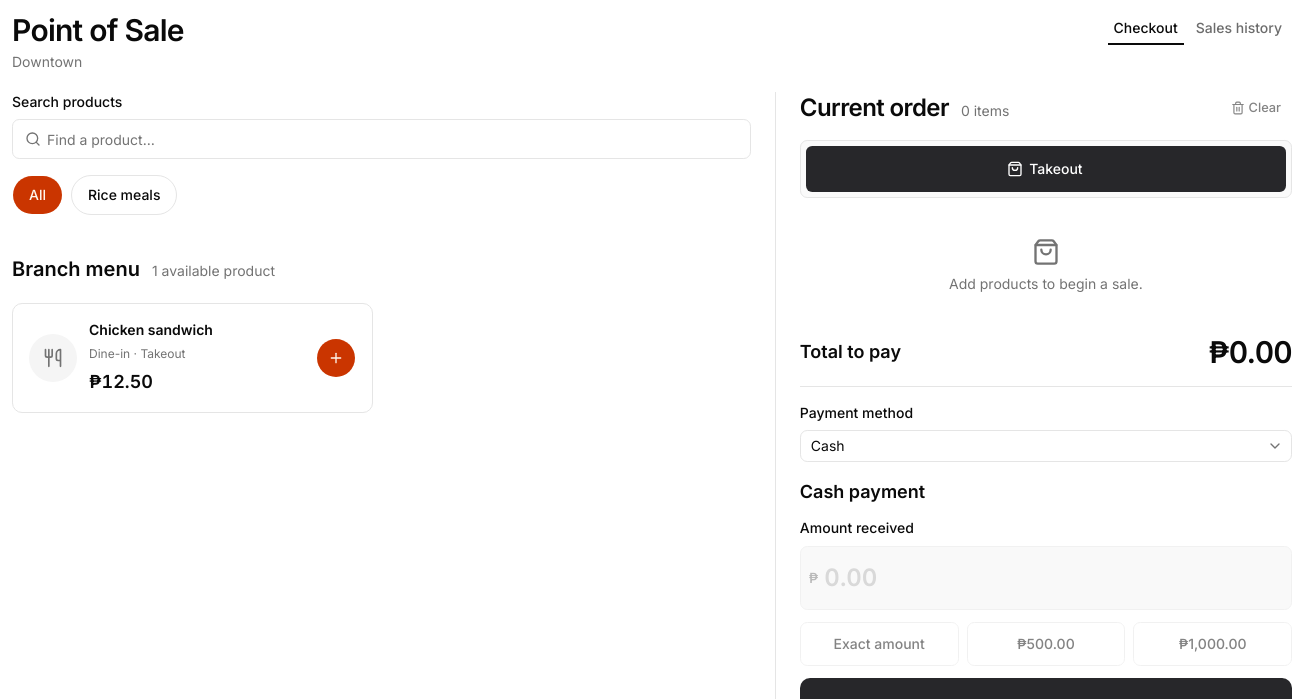
Test: POS management › clears branch-dependent cart state when the branch changes
Later steps or results of the test are not shown.
What coordinates should you click on to do the following:
click the button named "Add Chicken sandwich"
I would click on:
 (336, 358)
Its box is [316,338,356,378].
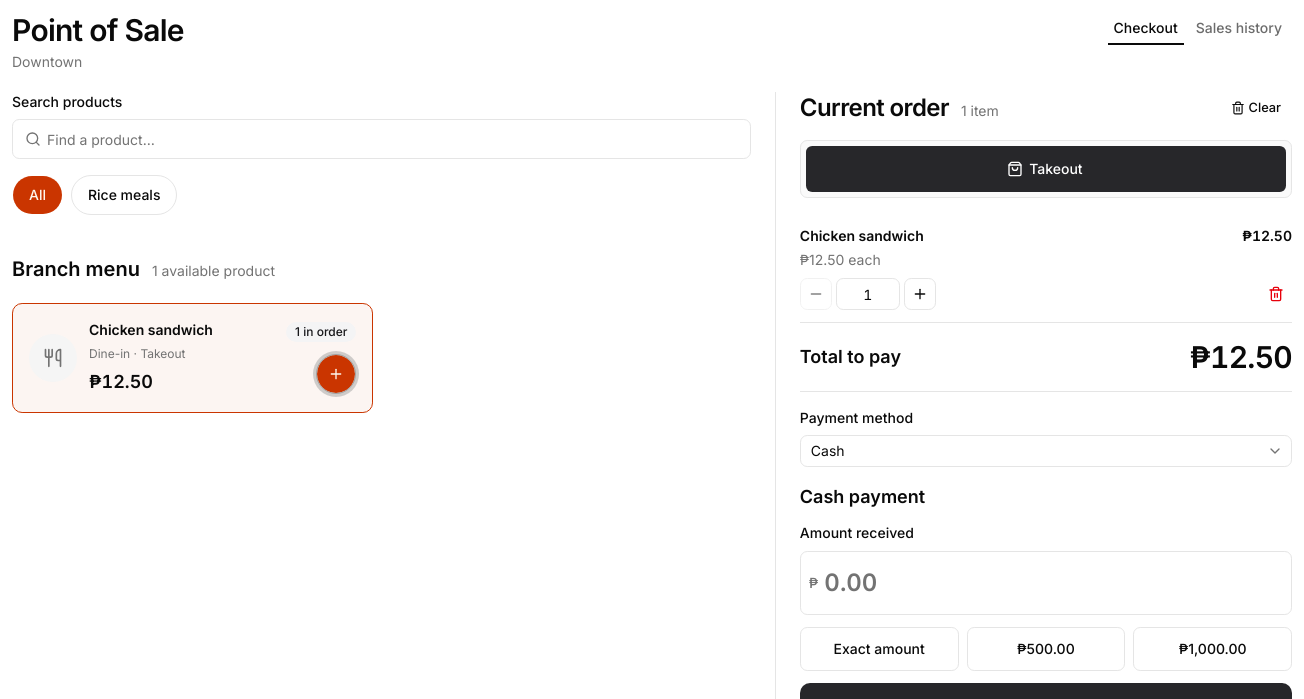
Now the field named "Quantity for Chicken sandwich" is shown, box [836,278,900,310]
